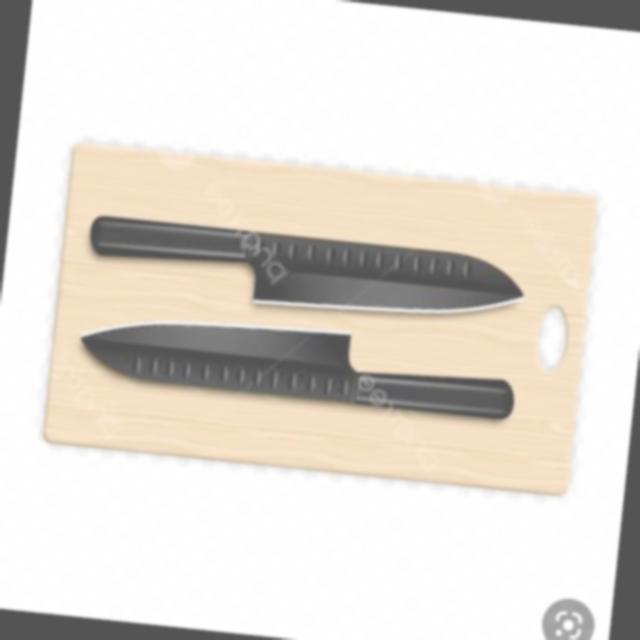knife: (58, 168, 559, 450)
